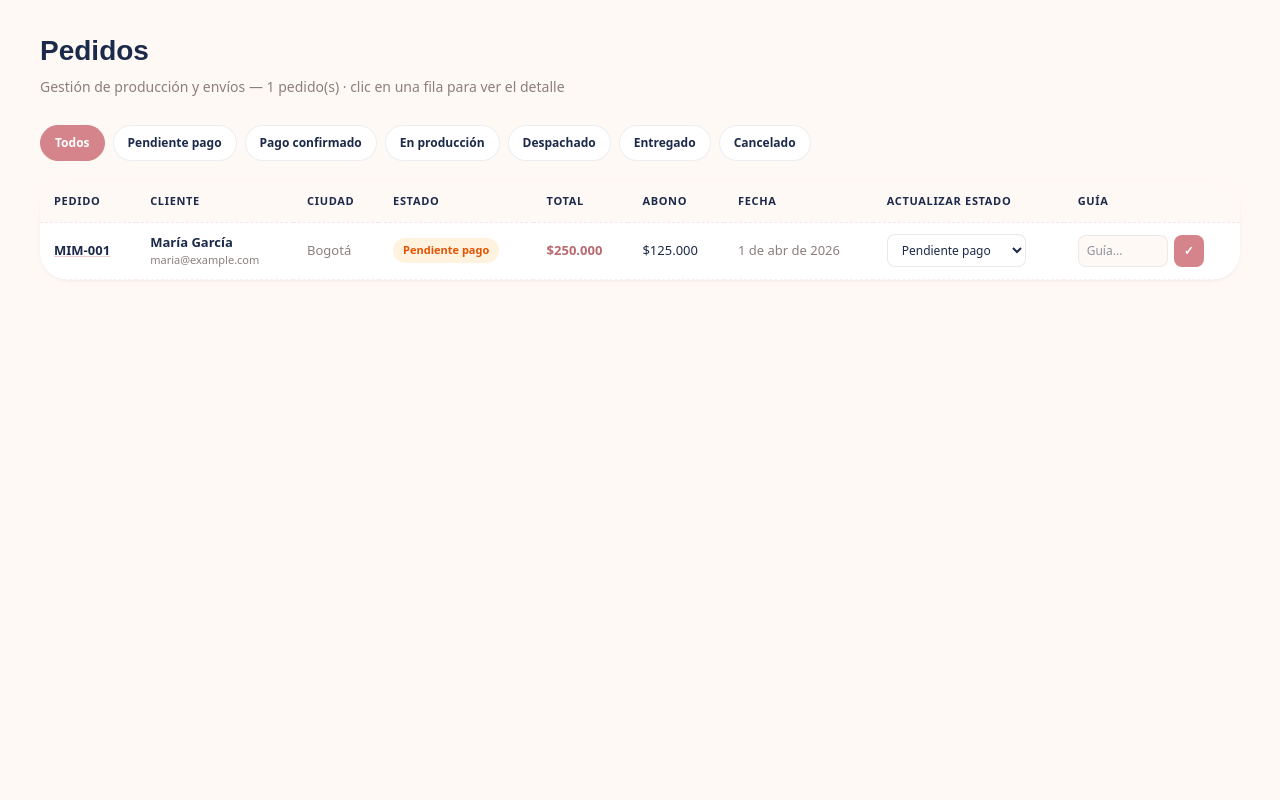
Scenario: PedidosAdminPage › opens the order detail modal when a row is clicked
Step 1. Click the row with test id "order-row-MIM-001" → {"x": 640, "y": 250}, box [40,222,1240,279]
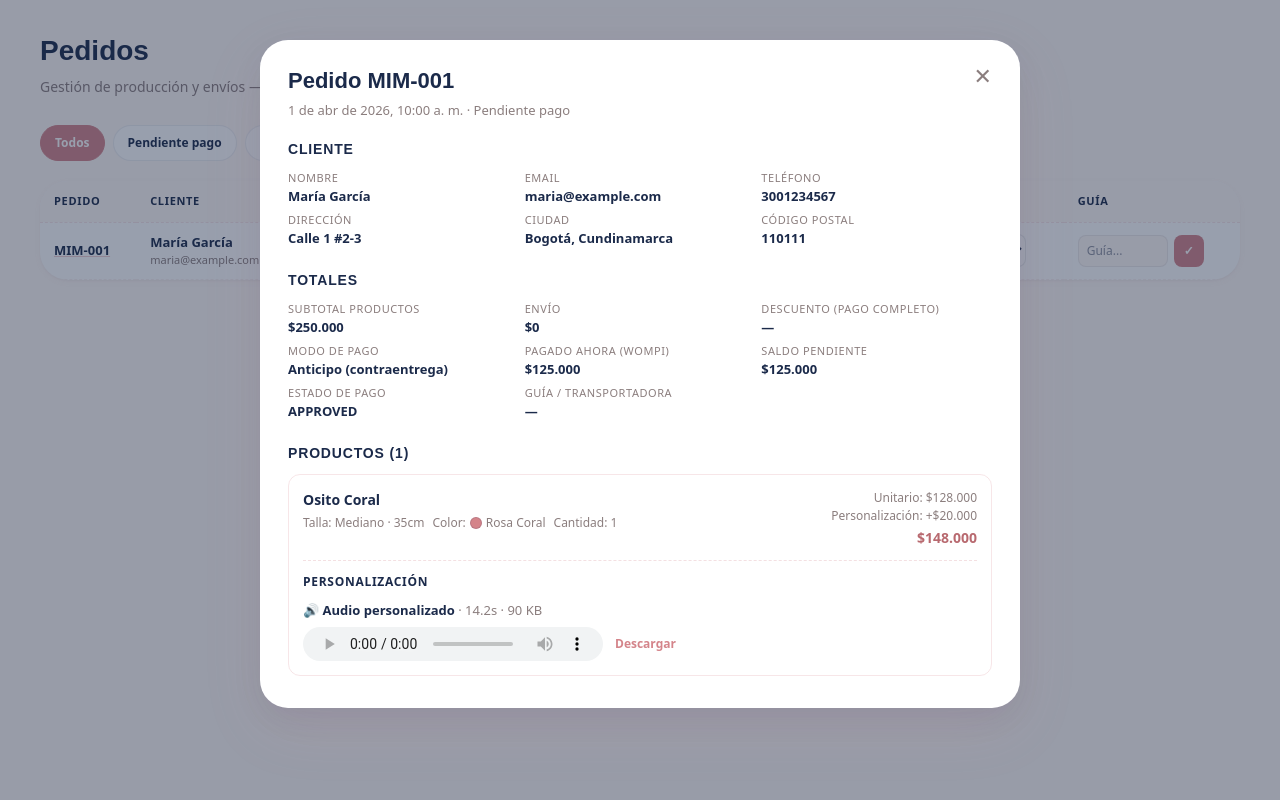
Check: the dialog named "Detalle del pedido MIM-001" is shown
